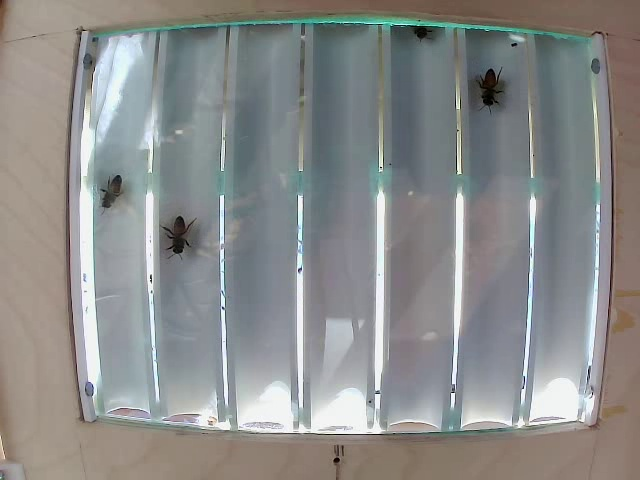bee: (475, 64, 511, 112), (100, 175, 133, 214), (176, 213, 202, 262)
